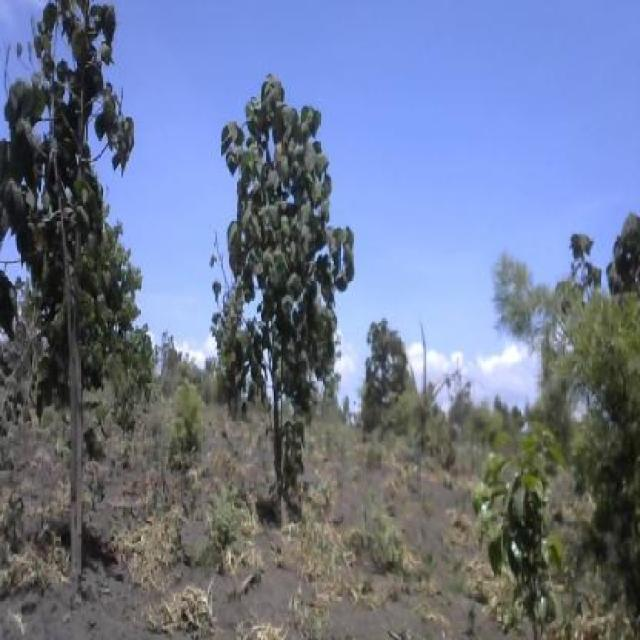tree trunk: (31, 38, 92, 565), (242, 102, 301, 510)
